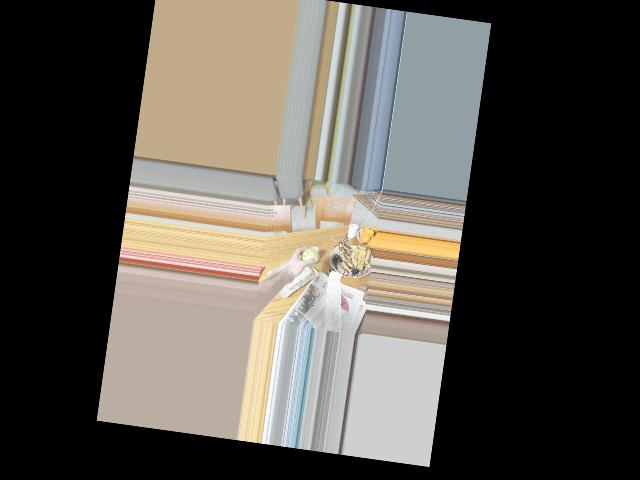apple: (296, 245, 321, 272)
